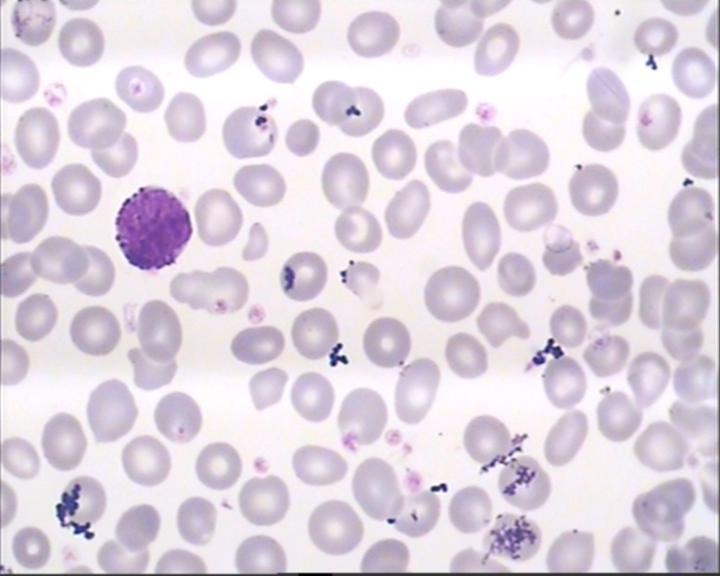baso: (110, 182, 199, 274)
